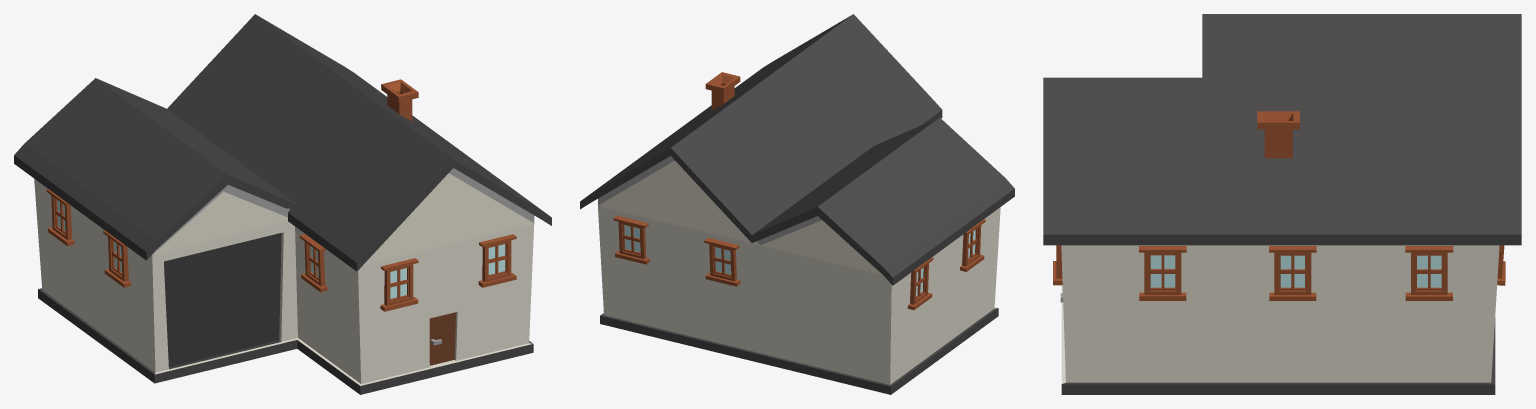
File: house5.glb
3 views of the same model, side by side, from view 1: azimuth 30°, elevation 25°; view 2: azimuth 150°, elevation 25°; view 3: azimuth 270°, elevation 25° (orthographic). The views are drawn at different scales.
Visible parts, largest first — view 1: House5_Cube.000; view 2: House5_Cube.000; view 3: House5_Cube.000.
Boxes of the visible parts, bbox=[...] form: House5_Cube.000: bbox=[14, 14, 551, 394]; House5_Cube.000: bbox=[580, 14, 1014, 394]; House5_Cube.000: bbox=[1043, 14, 1521, 394].
Bounding box in the file's own units: 2.16 × 1.34 × 2.19.
1 material, 1 textured.
